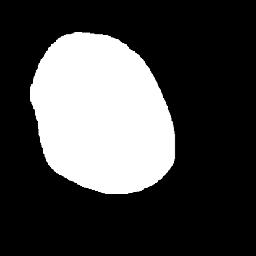mass: (29, 36, 166, 190)
